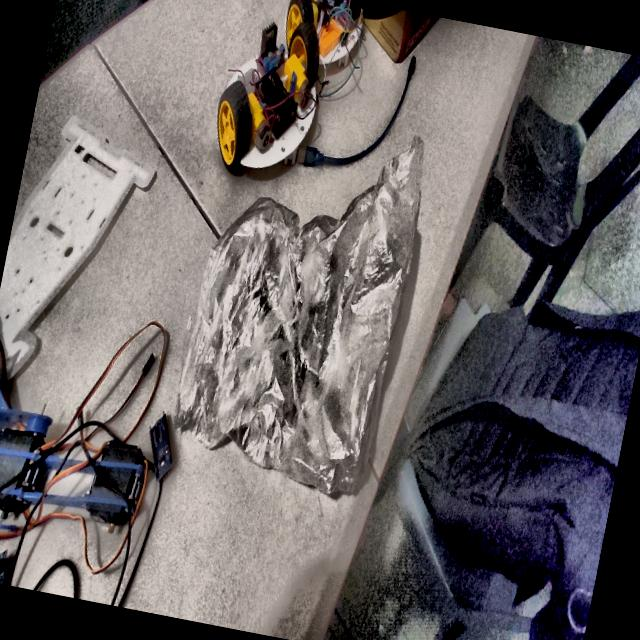plastic bag: (160, 104, 438, 513)
